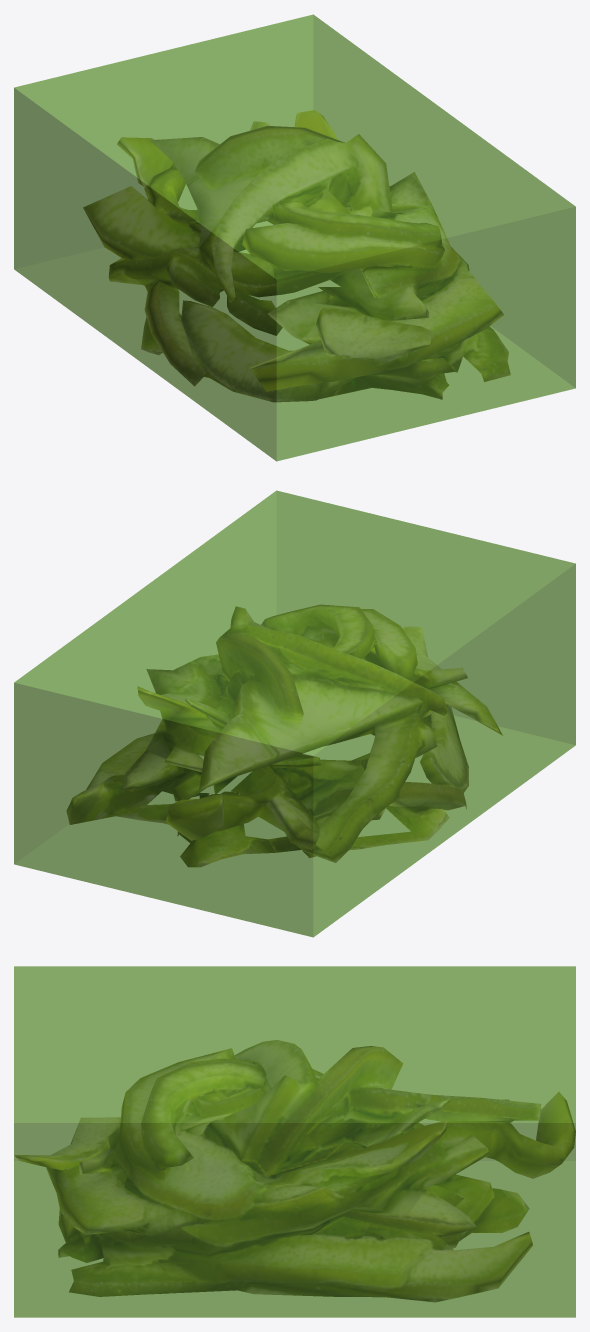
The model's file is pg_dried_fruit_01_d.fbx.
3 views of the same model, one above another, from view 1: azimuth 30°, elevation 25°; view 2: azimuth 150°, elevation 25°; view 3: azimuth 270°, elevation 25° (orthographic). The views are drawn at different scales.
Visible parts, largest first — view 1: pg_dried_fruit_01_d_col, pg_dried_fruit_01_d_LOD0; view 2: pg_dried_fruit_01_d_col, pg_dried_fruit_01_d_LOD0; view 3: pg_dried_fruit_01_d_col, pg_dried_fruit_01_d_LOD0.
Boxes of the visible parts, x1,y1,x2,y2 form: pg_dried_fruit_01_d_col: [14, 14, 575, 461]; pg_dried_fruit_01_d_LOD0: [83, 110, 510, 402]; pg_dried_fruit_01_d_col: [14, 490, 575, 937]; pg_dried_fruit_01_d_LOD0: [66, 604, 502, 867]; pg_dried_fruit_01_d_col: [14, 966, 575, 1317]; pg_dried_fruit_01_d_LOD0: [14, 1040, 575, 1302].
Size of what is drawn, in the model's own units: 23.31 by 13.52 by 35.39.
